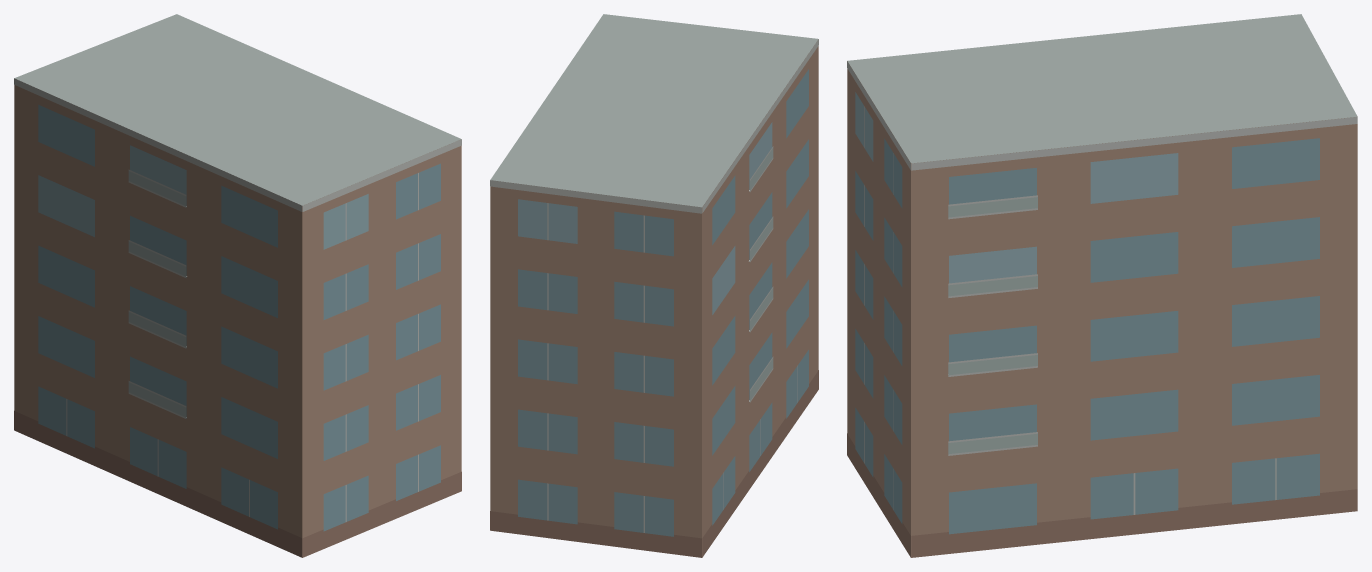
File: survey-upis-32914190.glb
The picture shows the model from 3 angles, left to right: view 1: azimuth 30°, elevation 25°; view 2: azimuth 150°, elevation 25°; view 3: azimuth 270°, elevation 25°; orthographic projection. The views are drawn at different scales.
Visible parts, largest first — view 1: survey-upis-32914190.tmp; view 2: survey-upis-32914190.tmp; view 3: survey-upis-32914190.tmp.
Part boxes in pixels (<box>): survey-upis-32914190.tmp: <box>14,14,461,557</box>; survey-upis-32914190.tmp: <box>490,14,818,557</box>; survey-upis-32914190.tmp: <box>847,14,1357,557</box>.
Bounding box in the file's own units: 10.86 × 13.35 × 15.67.
